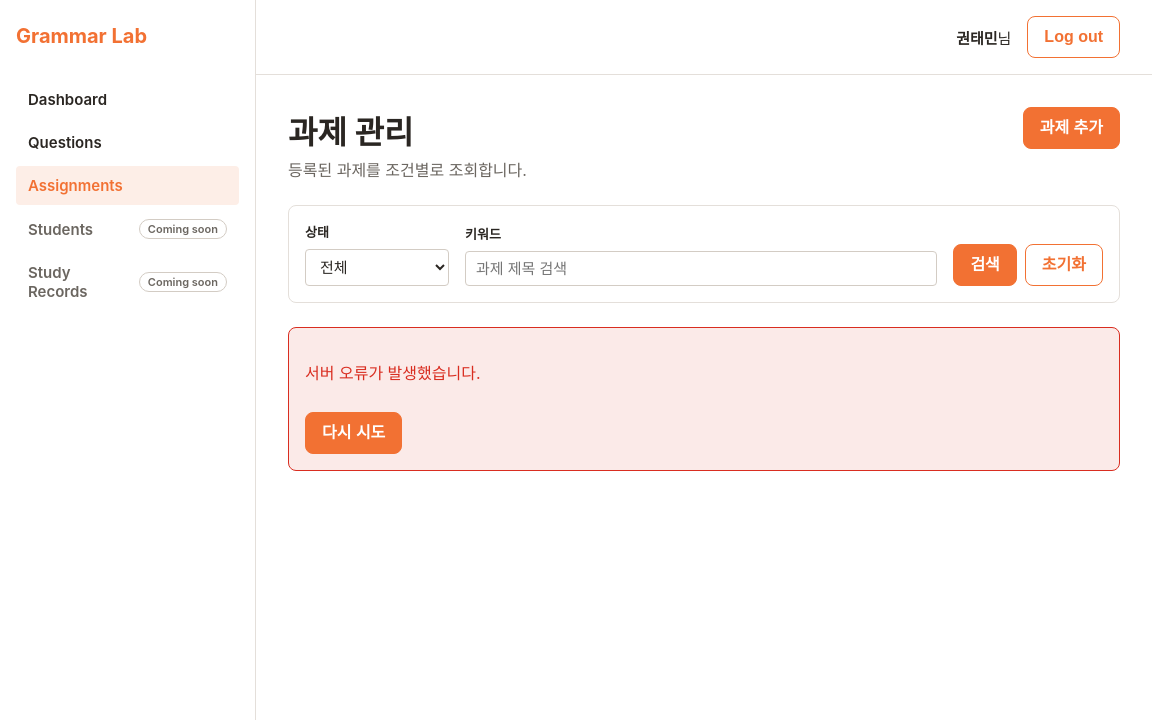
Scenario: AssignmentListPage › shows a recoverable error and retries the same request on click
Expected: the message shows "서버 오류가 발생했습니다.", [305,363,480,383]
What coordinates should you click on to do the following:
click the button "다시 시도"
I would click on:
 (354, 433)
Its box is [305,412,402,454].
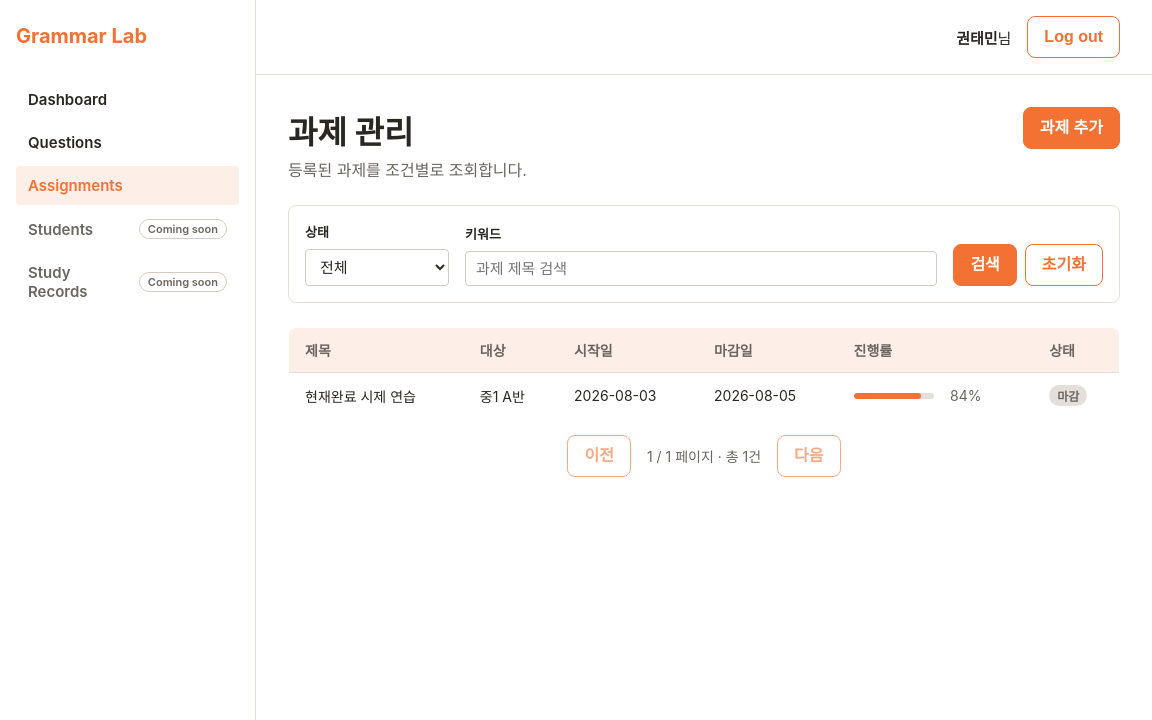
Expected: the link "현재완료 시제 연습" is shown, [305,388,416,404]
